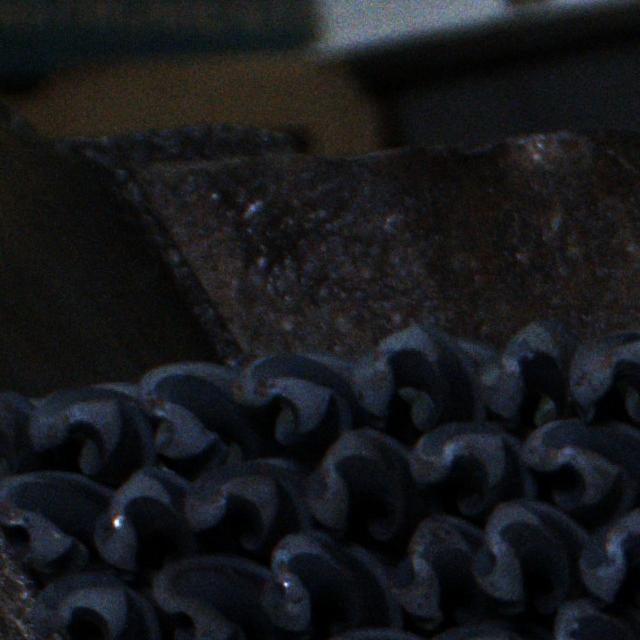tool_b: (352, 321, 498, 431), (472, 498, 590, 616), (261, 530, 403, 628), (140, 362, 266, 468), (480, 314, 598, 426), (94, 464, 200, 584), (26, 382, 156, 478), (230, 352, 360, 448), (411, 421, 538, 519), (304, 428, 412, 542), (182, 456, 310, 550), (0, 471, 114, 576), (519, 418, 639, 516), (150, 552, 270, 640), (387, 513, 485, 620), (29, 575, 160, 640), (566, 326, 640, 424), (578, 506, 640, 604)
